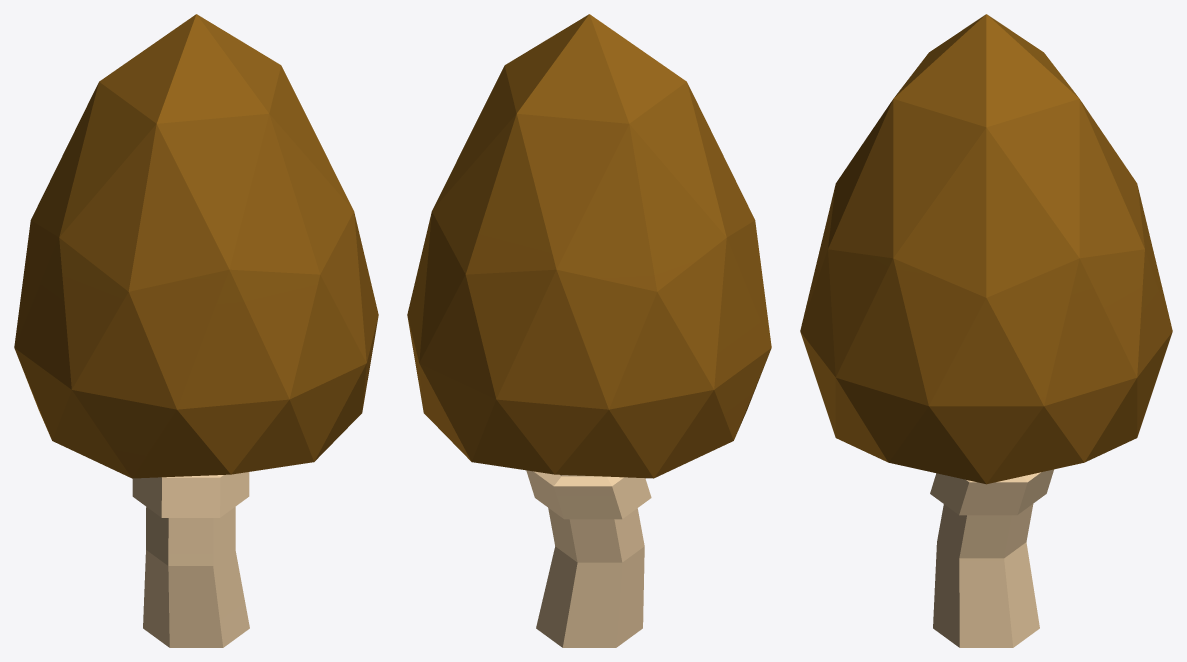
Rendered from Mushroom_01.fbx.
3 renders of one model, left to right at view 1: azimuth 30°, elevation 25°; view 2: azimuth 150°, elevation 25°; view 3: azimuth 270°, elevation 25°, orthographic.
Parts seen in each view (by area): view 1: Mushroom_01; view 2: Mushroom_01; view 3: Mushroom_01.
Part boxes in pixels (x1=…): Mushroom_01: x1=14, y1=14, x2=378, y2=647; Mushroom_01: x1=407, y1=14, x2=771, y2=647; Mushroom_01: x1=800, y1=14, x2=1172, y2=647.
Bounding box in the file's own units: 29.58 × 56.58 × 31.1.
